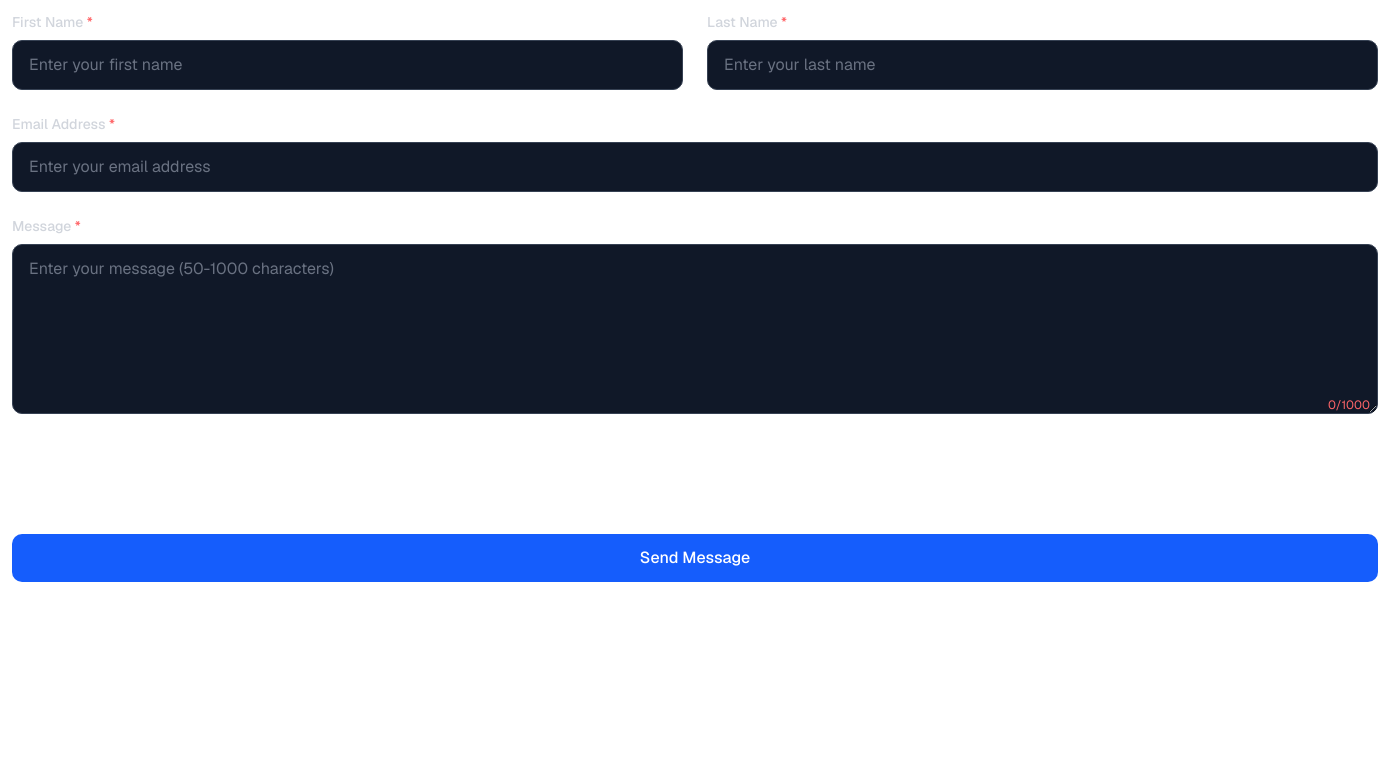
Scenario: ContactForm › should show validation errors for empty fields
Expected: the field labelled "First Name *" is shown, [12, 40, 683, 90]
Step 1. Click the button "Send Message" → (695, 558), box [12, 534, 1378, 582]
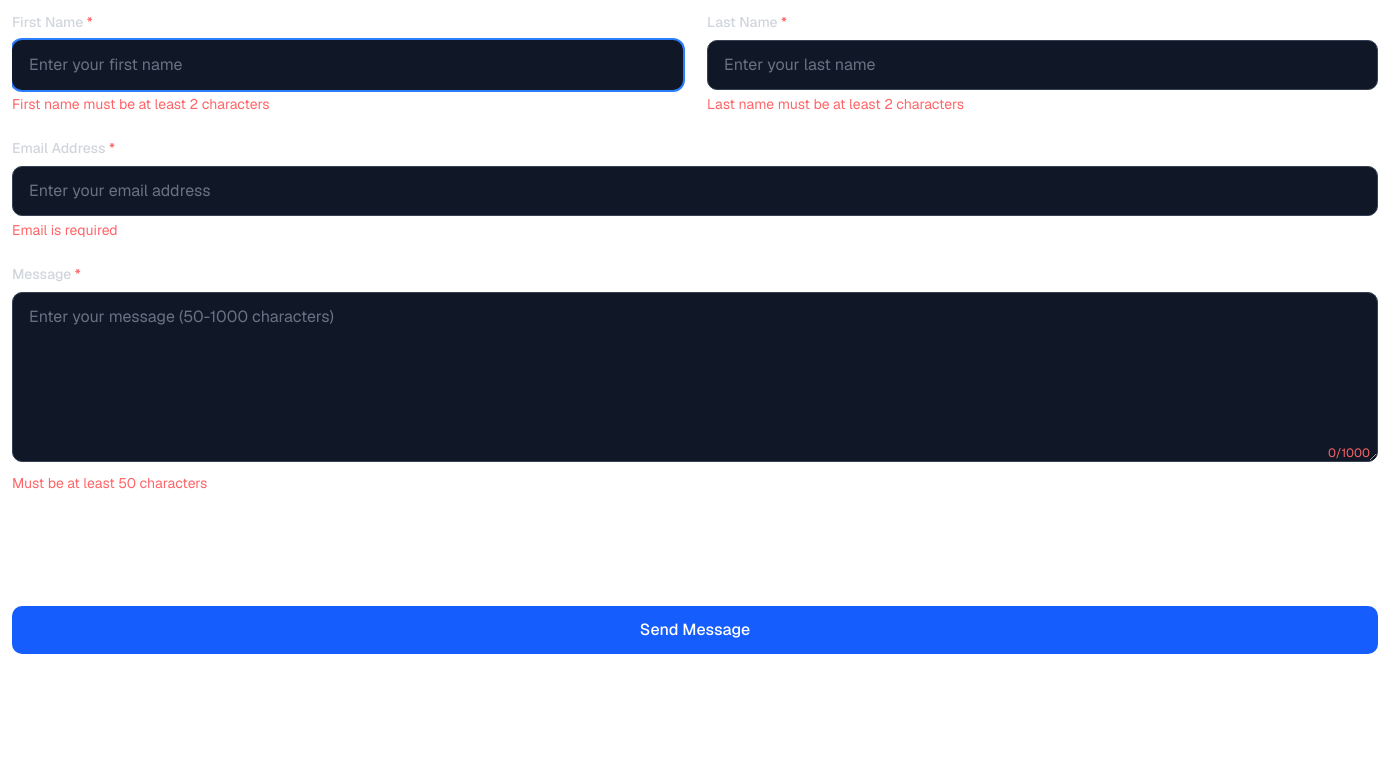
Now the text "First name must be at least 2 characters" is shown, box [12, 95, 270, 113]
